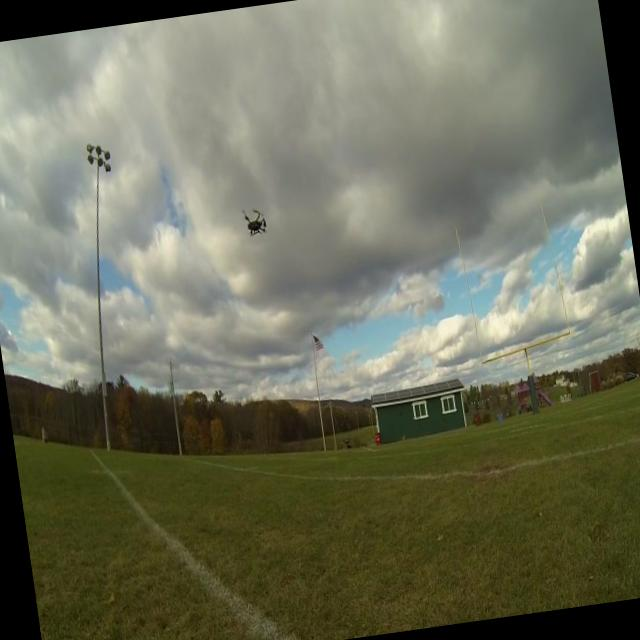drone: (242, 204, 270, 240)
